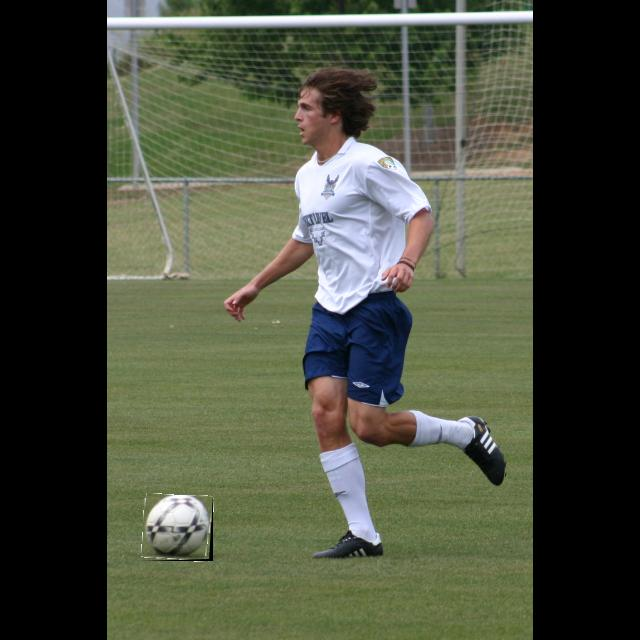Football: (143, 495, 213, 561)
